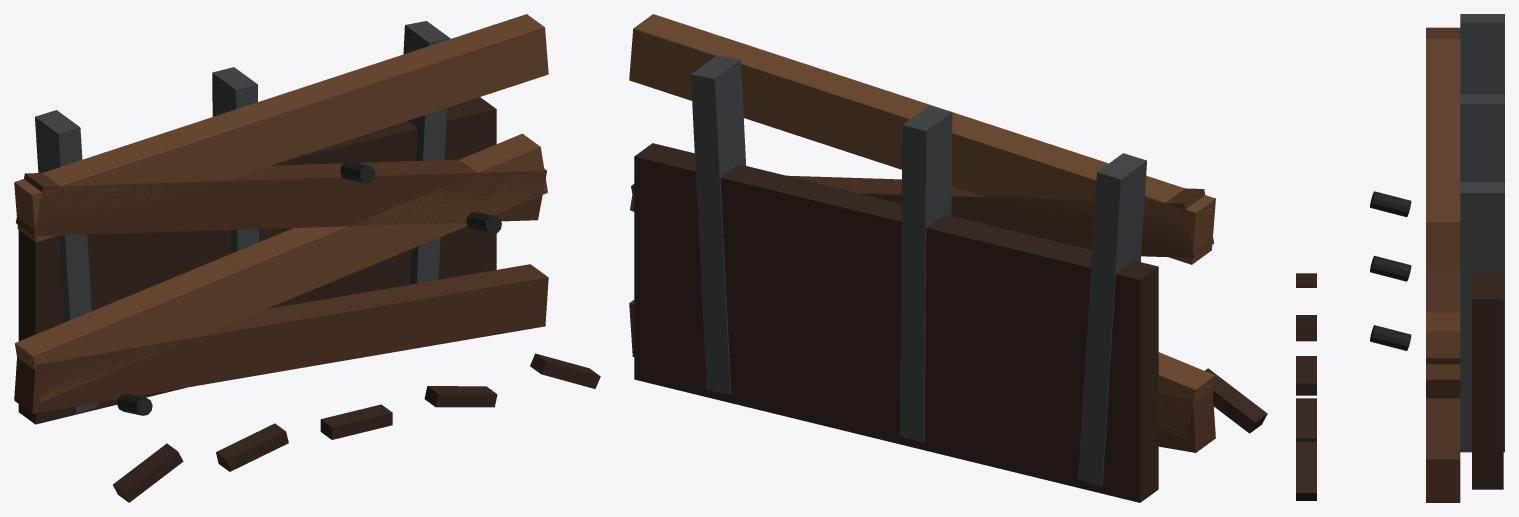
Rendered from Makeshift_Barricade.obj.
3 views of the same model, side by side, from view 1: azimuth 30°, elevation 25°; view 2: azimuth 150°, elevation 25°; view 3: azimuth 270°, elevation 25° (orthographic). The views are drawn at different scales.
Size of the model in its own units: 2.13 by 1.21 by 0.795.
